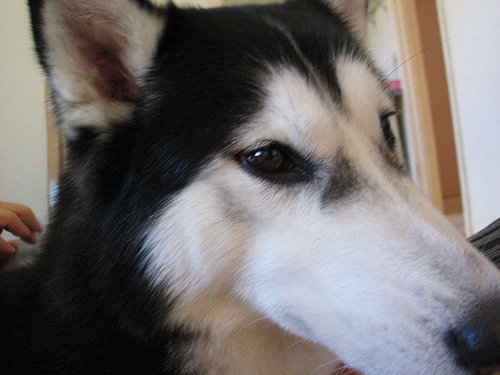dog: (0, 0, 499, 373)
